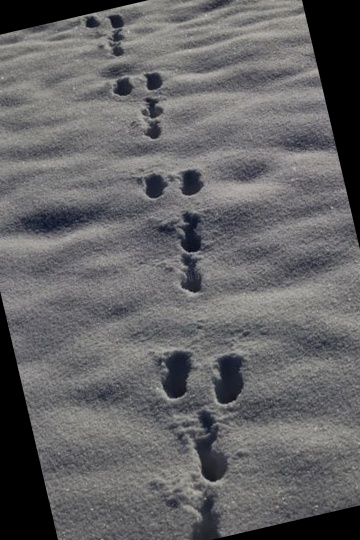rabbit: (116, 156, 246, 328), (97, 61, 191, 158)
